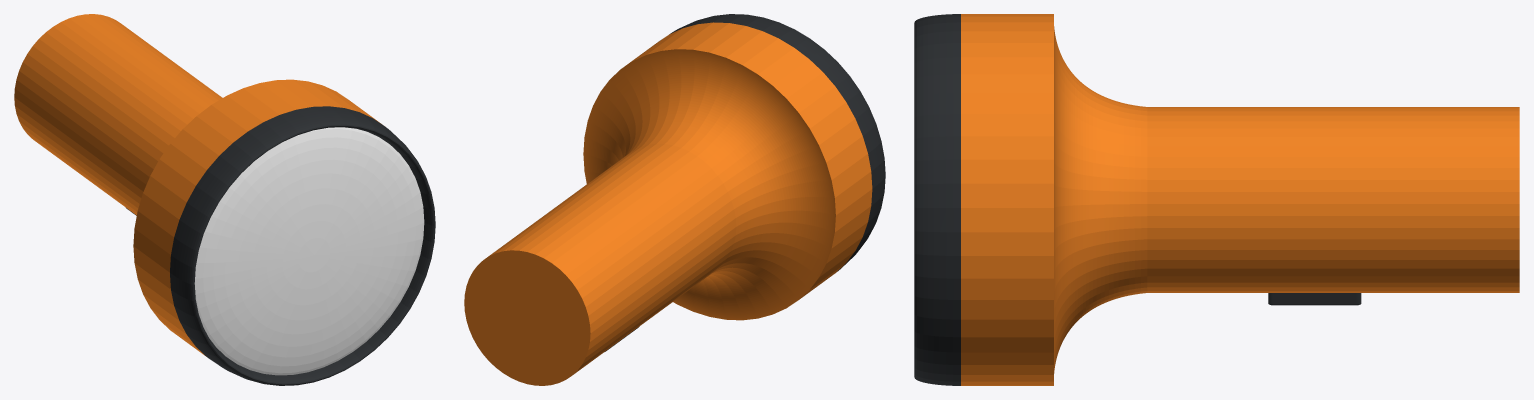
File: tinker.obj
The picture shows the model from 3 angles, left to right: view 1: azimuth 30°, elevation 25°; view 2: azimuth 150°, elevation 25°; view 3: azimuth 270°, elevation 25°; orthographic projection. The views are drawn at different scales.
Visible parts, largest first — view 1: obj_3, obj_1, obj_2; view 2: obj_1, obj_2; view 3: obj_1, obj_2, obj_0.
Part boxes in pixels (x1=…): obj_3: x1=194, y1=127, x2=424, y2=375; obj_1: x1=14, y1=14, x2=380, y2=356; obj_2: x1=170, y1=106, x2=435, y2=385; obj_1: x1=464, y1=22, x2=872, y2=385; obj_2: x1=669, y1=14, x2=885, y2=271; obj_1: x1=961, y1=14, x2=1519, y2=385; obj_2: x1=914, y1=14, x2=960, y2=385; obj_0: x1=1268, y1=293, x2=1361, y2=305.
Size of the model in its own units: 40 by 40 by 65.
